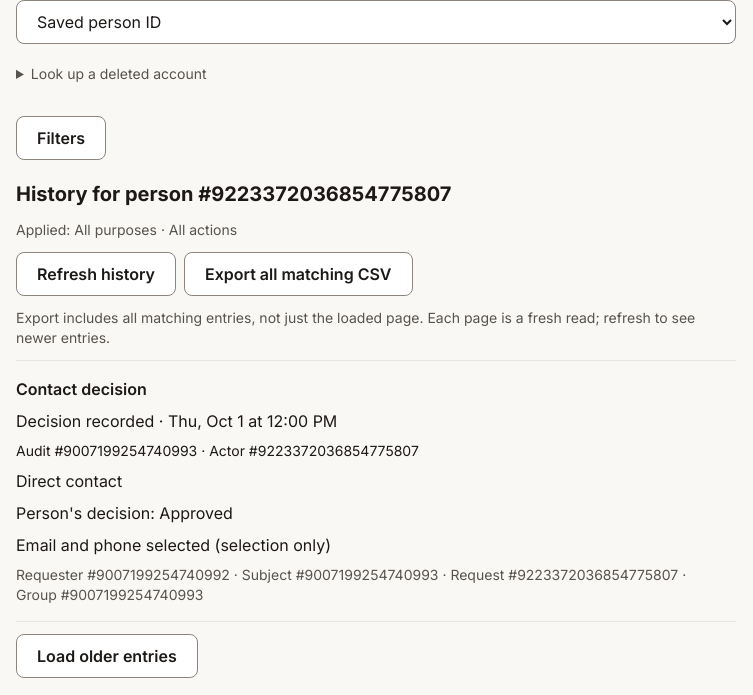
uses returned cursors unchanged, keeps server order and suppresses exact duplicates only
(page scrolled)
Click the button "Load older entries" at (107, 656), box [16,634,198,678]
(page scrolled)
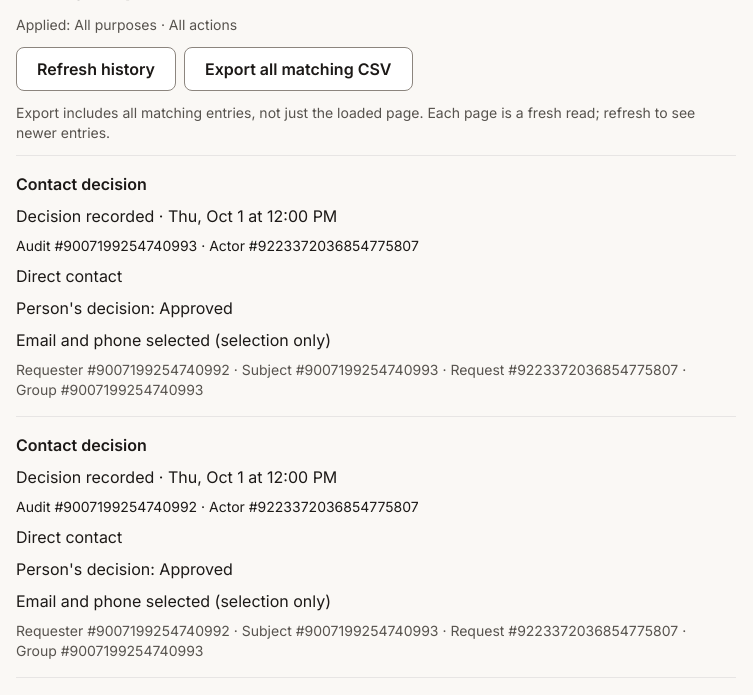
Expected: the 1st list item shows "Audit #9007199254740993", [16,156,736,417]
Expected: the number of list items is 2, [16,156,736,417]; [16,417,736,677]
Expected: the 2nd list item shows "Audit #9007199254740992", [16,417,736,677]
